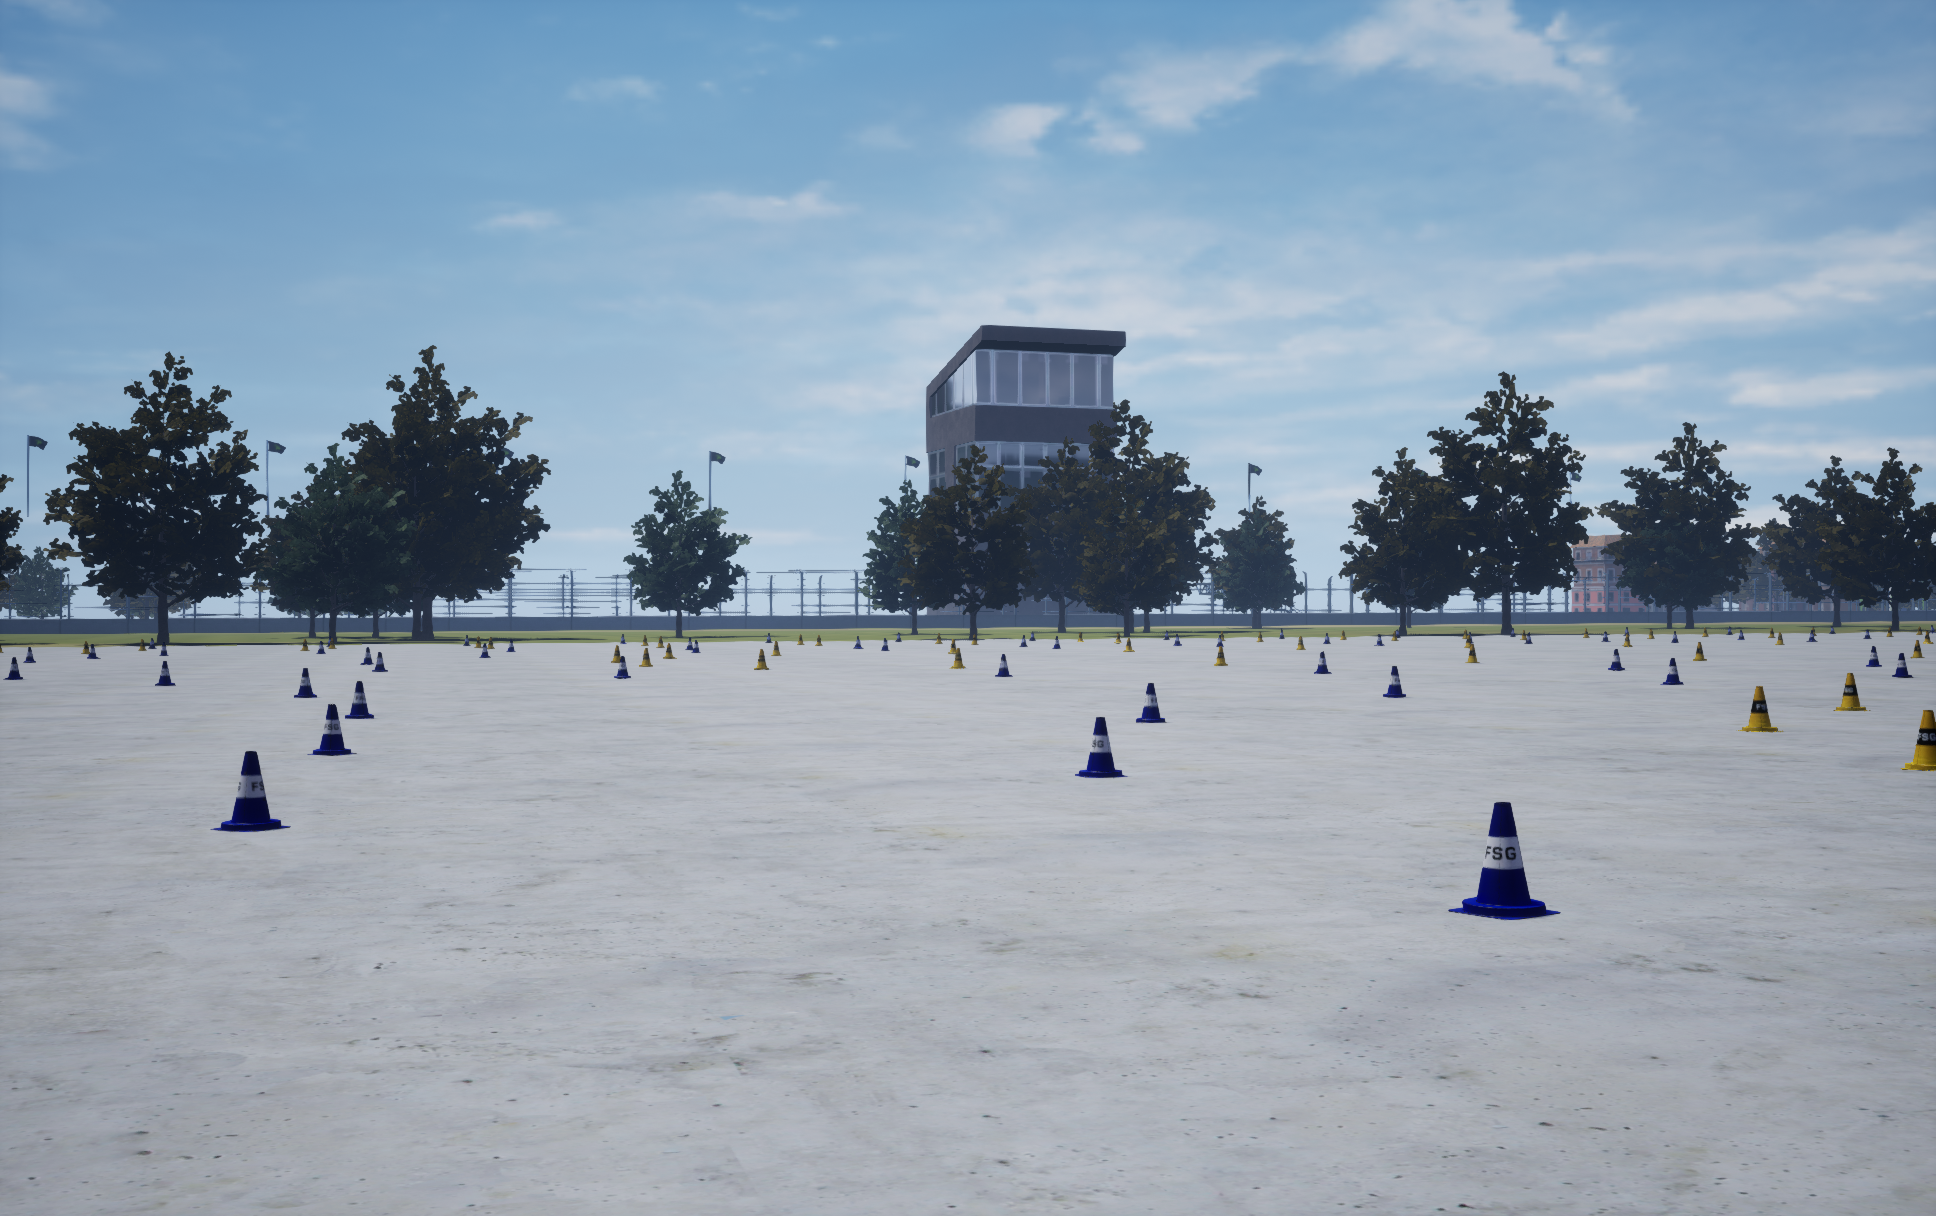blue: (1736, 686, 1783, 731), (1900, 710, 1935, 771), (1832, 672, 1870, 710), (948, 649, 965, 668), (754, 649, 768, 670), (1465, 644, 1479, 663), (1215, 646, 1227, 665), (639, 649, 651, 665)
yellow: (1448, 801, 1561, 919), (210, 751, 290, 831), (1074, 717, 1128, 778), (307, 705, 356, 755), (1136, 684, 1166, 721), (345, 681, 373, 719), (1383, 665, 1405, 698), (294, 668, 317, 698), (1660, 658, 1682, 684), (1893, 653, 1914, 677), (155, 661, 175, 685), (3, 657, 22, 679), (614, 656, 630, 678), (995, 654, 1011, 677), (1314, 651, 1331, 672), (1608, 649, 1624, 670), (1866, 646, 1881, 665), (373, 651, 387, 671)
